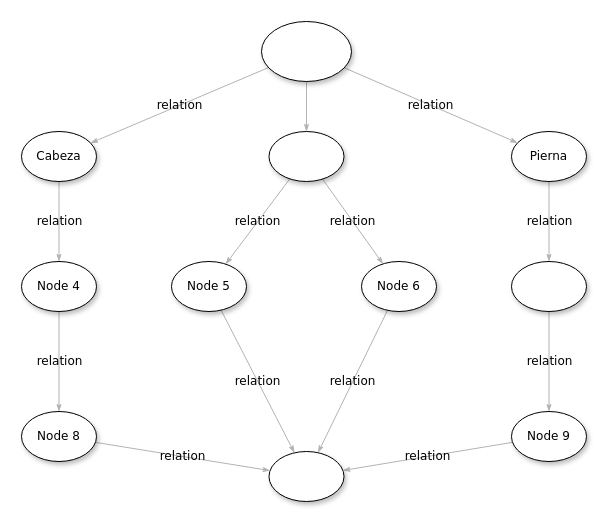
The diagram is 610 pixels wide and 526 high, and some of its shapes have lost their labels. The shapes that lost their labels are listed below. From the top down, each one's centre as x and y in pixels, then its label:
At pixel 307 52: "Humanoide".
At pixel 307 157: "Brazo".
At pixel 549 287: "Node 7".
At pixel 307 477: "End node".
